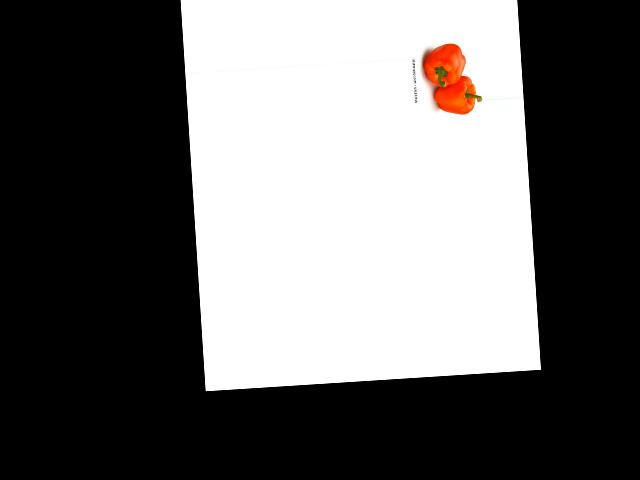bell_pepper: (418, 41, 468, 90)
